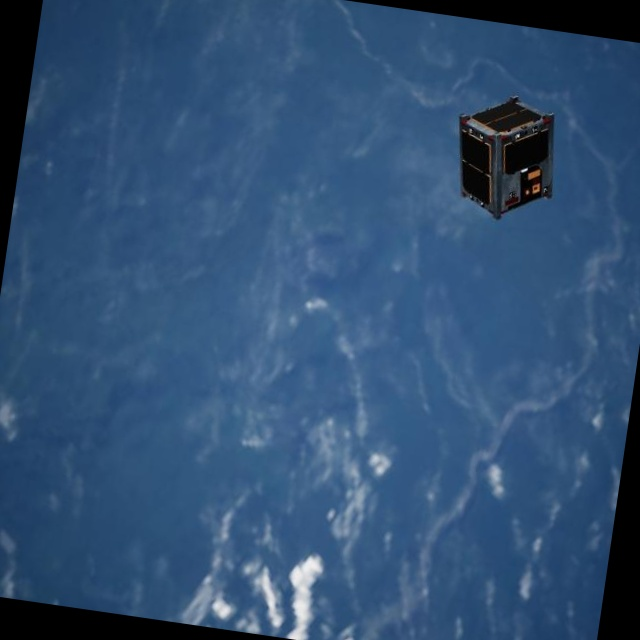medium_debris: (440, 85, 572, 229)
